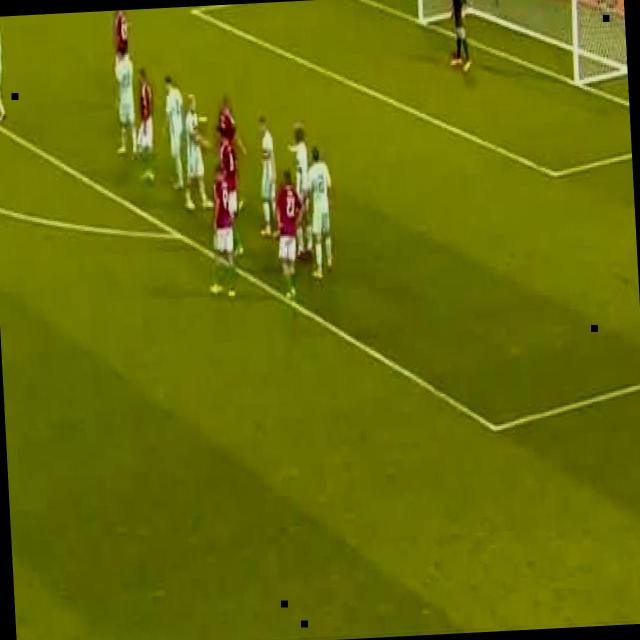player-white: (305, 146, 337, 283), (274, 169, 306, 301), (180, 94, 216, 210), (203, 167, 235, 297), (217, 96, 249, 209), (288, 122, 314, 258), (254, 115, 282, 238), (110, 43, 138, 160), (160, 76, 188, 190), (218, 127, 242, 255), (134, 67, 158, 181), (446, 0, 474, 70), (113, 9, 131, 76), (0, 17, 5, 118)
